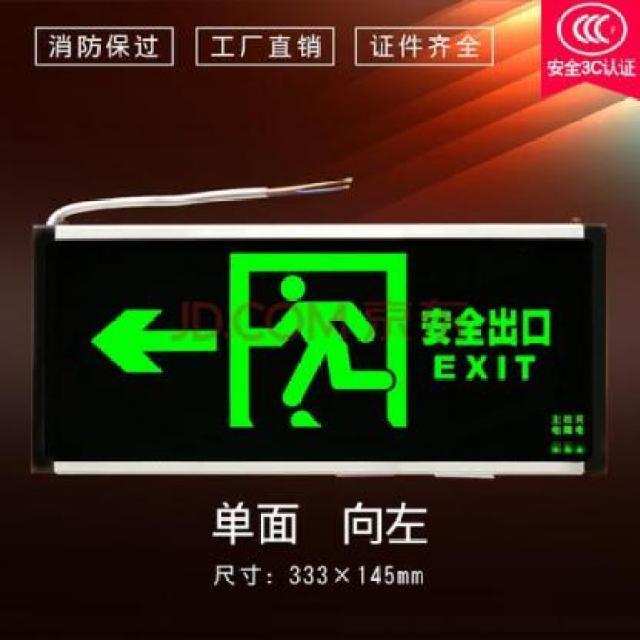exit_sign: (43, 230, 593, 476)
